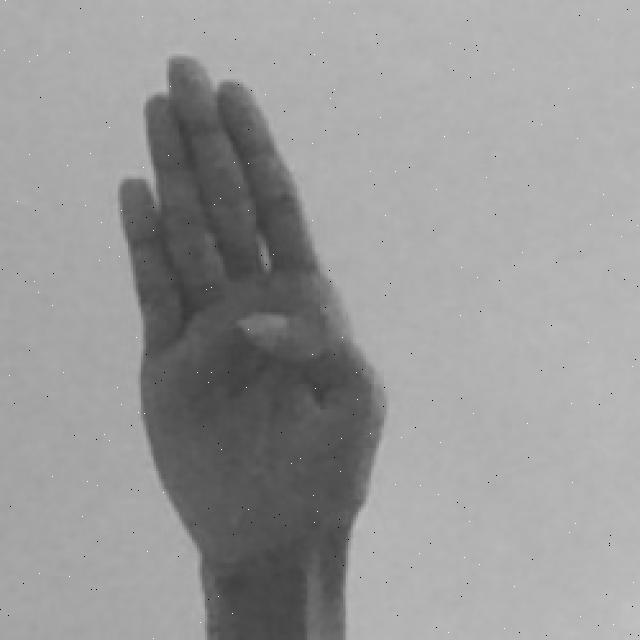B: (115, 46, 386, 640)
